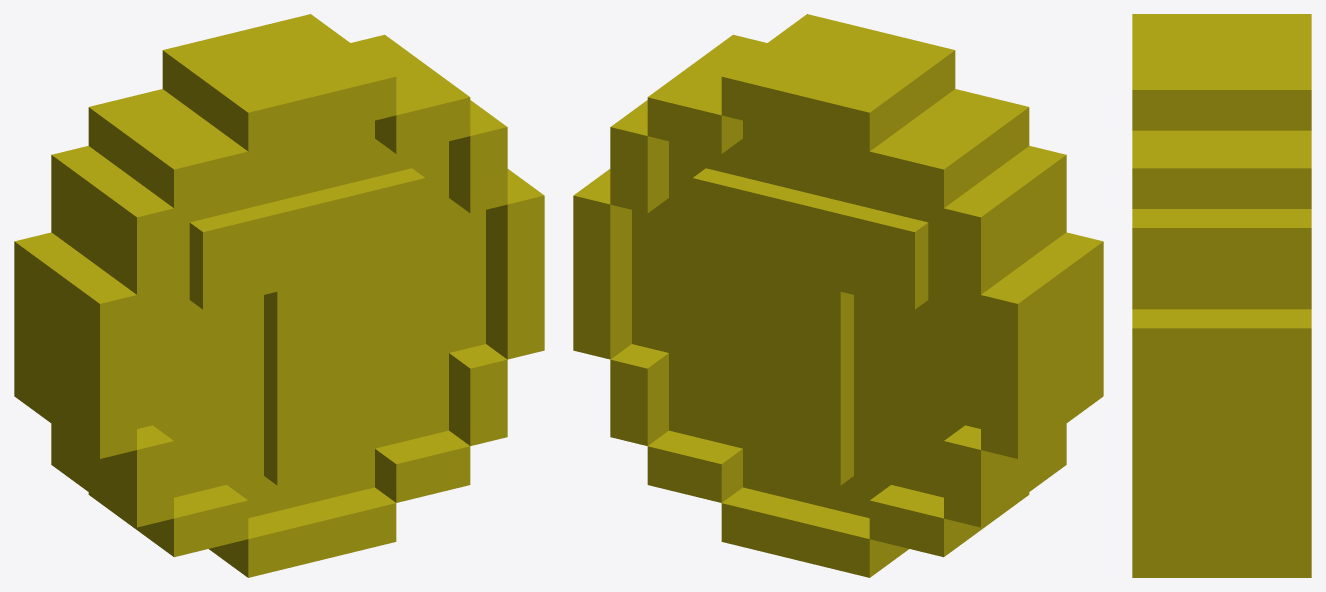
The model's file is Coin.fbx.
3 renders of one model, left to right at view 1: azimuth 30°, elevation 25°; view 2: azimuth 150°, elevation 25°; view 3: azimuth 270°, elevation 25°, orthographic. The views are drawn at different scales.
Parts seen in each view (by area): view 1: Cube; view 2: Cube; view 3: Cube.
Boxes of the visible parts, <box> form: Cube: <box>14,14,544,577</box>; Cube: <box>573,14,1103,577</box>; Cube: <box>1132,14,1311,577</box>.
Size of the model in its own units: 0.6 by 0.6 by 0.2.
